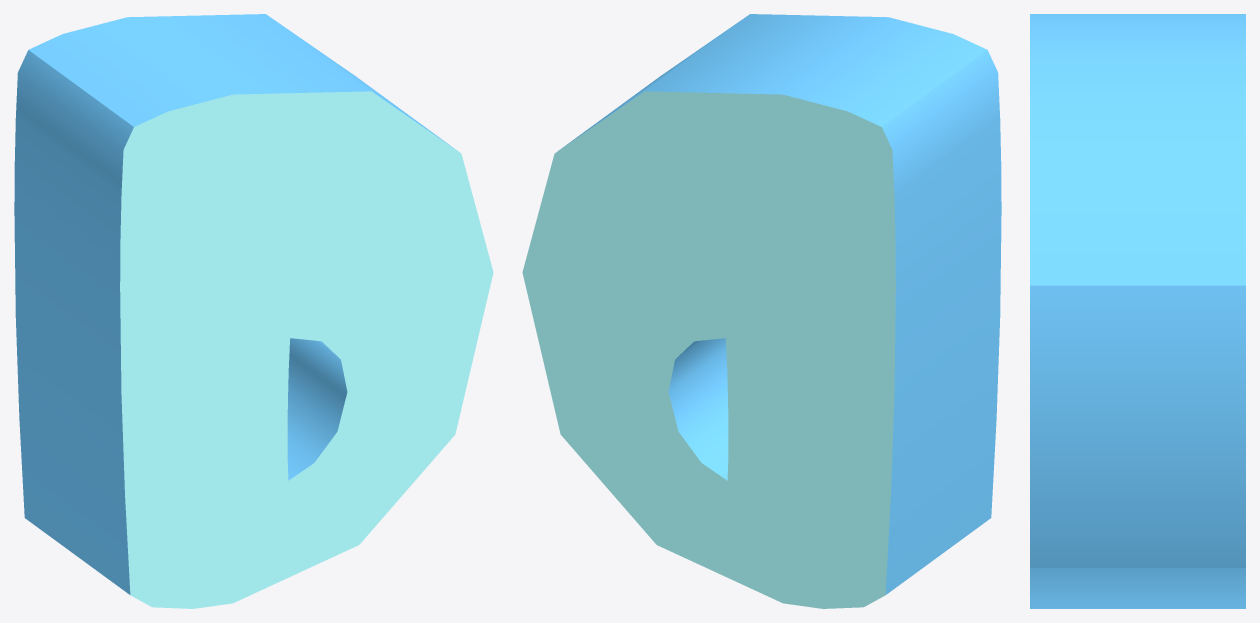
3 views of the same model, side by side, from view 1: azimuth 30°, elevation 25°; view 2: azimuth 150°, elevation 25°; view 3: azimuth 270°, elevation 25° (orthographic). The views are drawn at different scales.
Visible parts, largest first — view 1: d; view 2: d; view 3: d.
Boxes of the visible parts, bbox=[...] form: d: bbox=[14, 14, 493, 608]; d: bbox=[522, 14, 1001, 608]; d: bbox=[1030, 14, 1245, 608].
Size of what is drawn, in the model's own units: 0.3672 by 0.4782 by 0.18.
